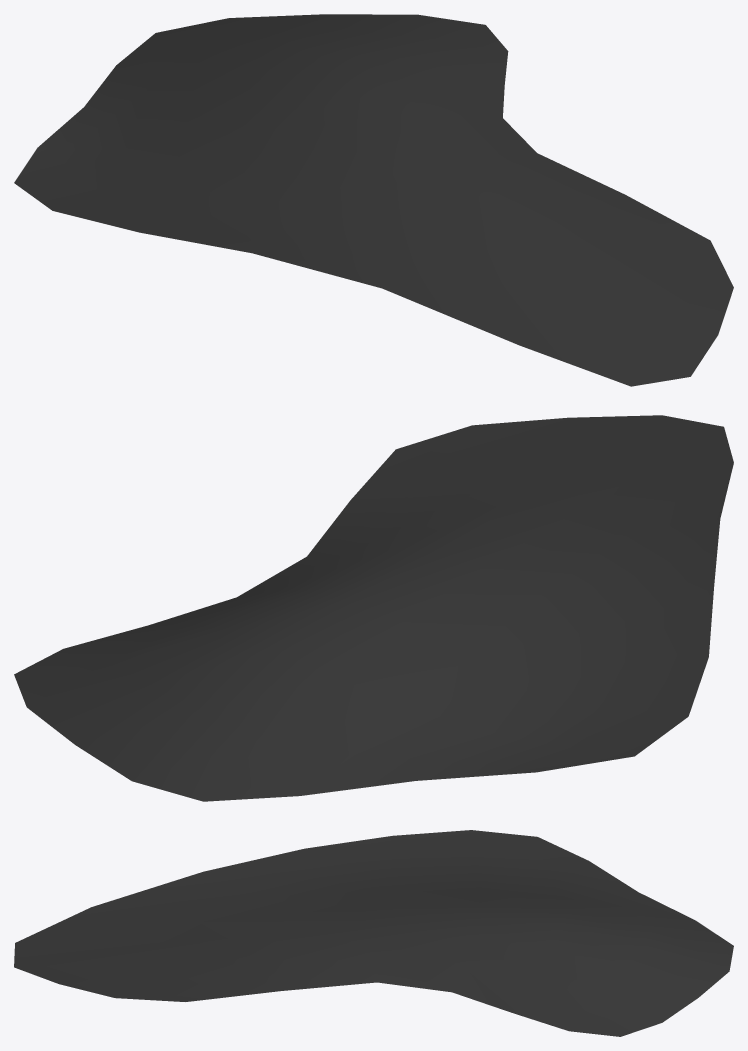
The model's file is Mod_Oil_01.fbx.
3 renders of one model, top to bottom at view 1: azimuth 30°, elevation 25°; view 2: azimuth 150°, elevation 25°; view 3: azimuth 270°, elevation 25°, orthographic. The views are drawn at different scales.
Parts seen in each view (by area): view 1: Mod_Oil_01; view 2: Mod_Oil_01; view 3: Mod_Oil_01.
Part boxes in pixels (bbox=[...]): Mod_Oil_01: bbox=[14, 14, 733, 386]; Mod_Oil_01: bbox=[14, 415, 733, 801]; Mod_Oil_01: bbox=[14, 830, 733, 1036].
Size of the model in its own units: 99.16 by 10.21 by 155.
